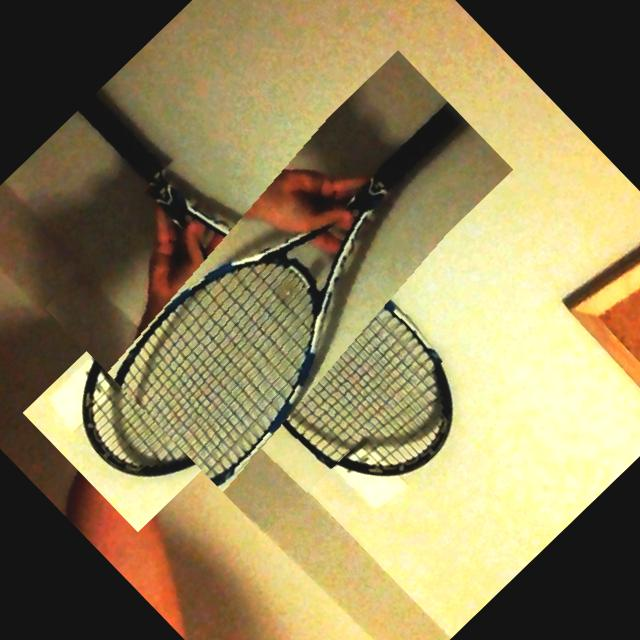TennisRacket: (23, 47, 510, 534)
